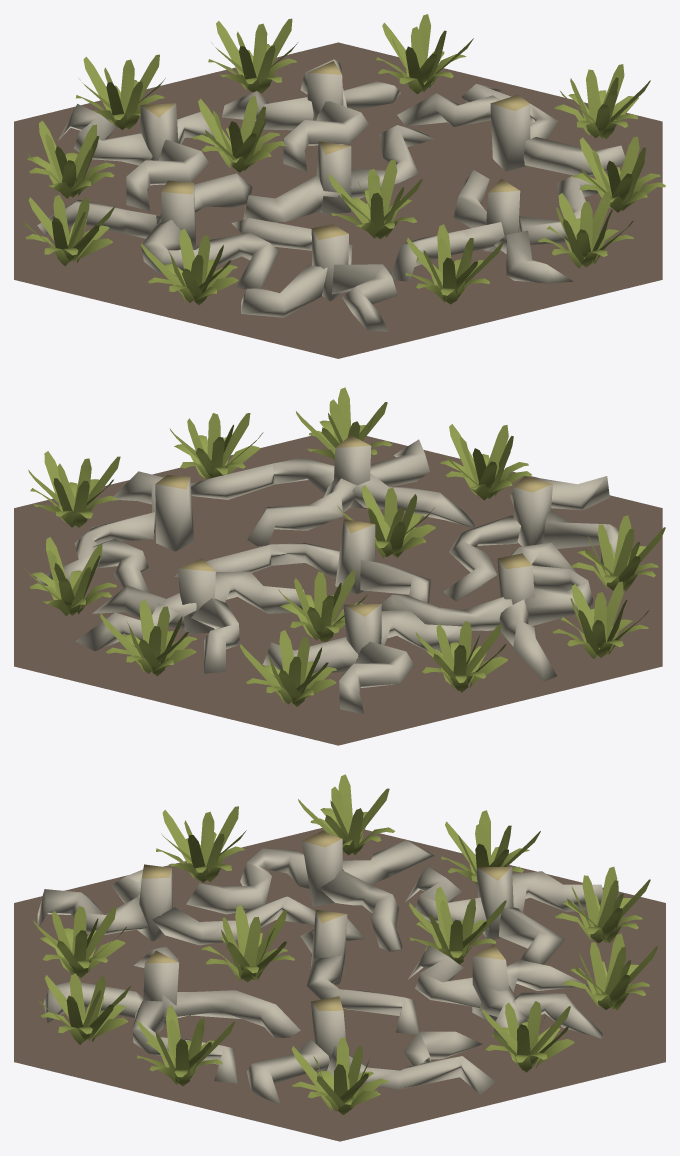
File: Tile_ForestDeforestado_2.fbx
The picture shows the model from 3 angles, top to bottom: view 1: azimuth 30°, elevation 25°; view 2: azimuth 150°, elevation 25°; view 3: azimuth 270°, elevation 25°; orthographic projection.
Visible parts, largest first — view 1: Forest_2; view 2: Forest_2; view 3: Forest_2.
Boxes of the visible parts, x1,y1,x2,y2 form: Forest_2: (14,14,665,358); Forest_2: (14,387,665,745); Forest_2: (14,774,665,1141).
Size of the model in its own units: 139 by 13.54 by 120.
1 material, 1 textured.
